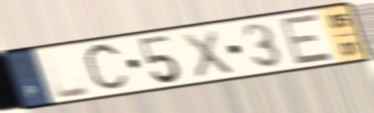3: (241, 21, 283, 72)
5: (136, 32, 182, 85)
C: (81, 40, 132, 96)
E: (278, 12, 336, 67)
L: (39, 49, 93, 101)
X: (178, 27, 237, 81)
